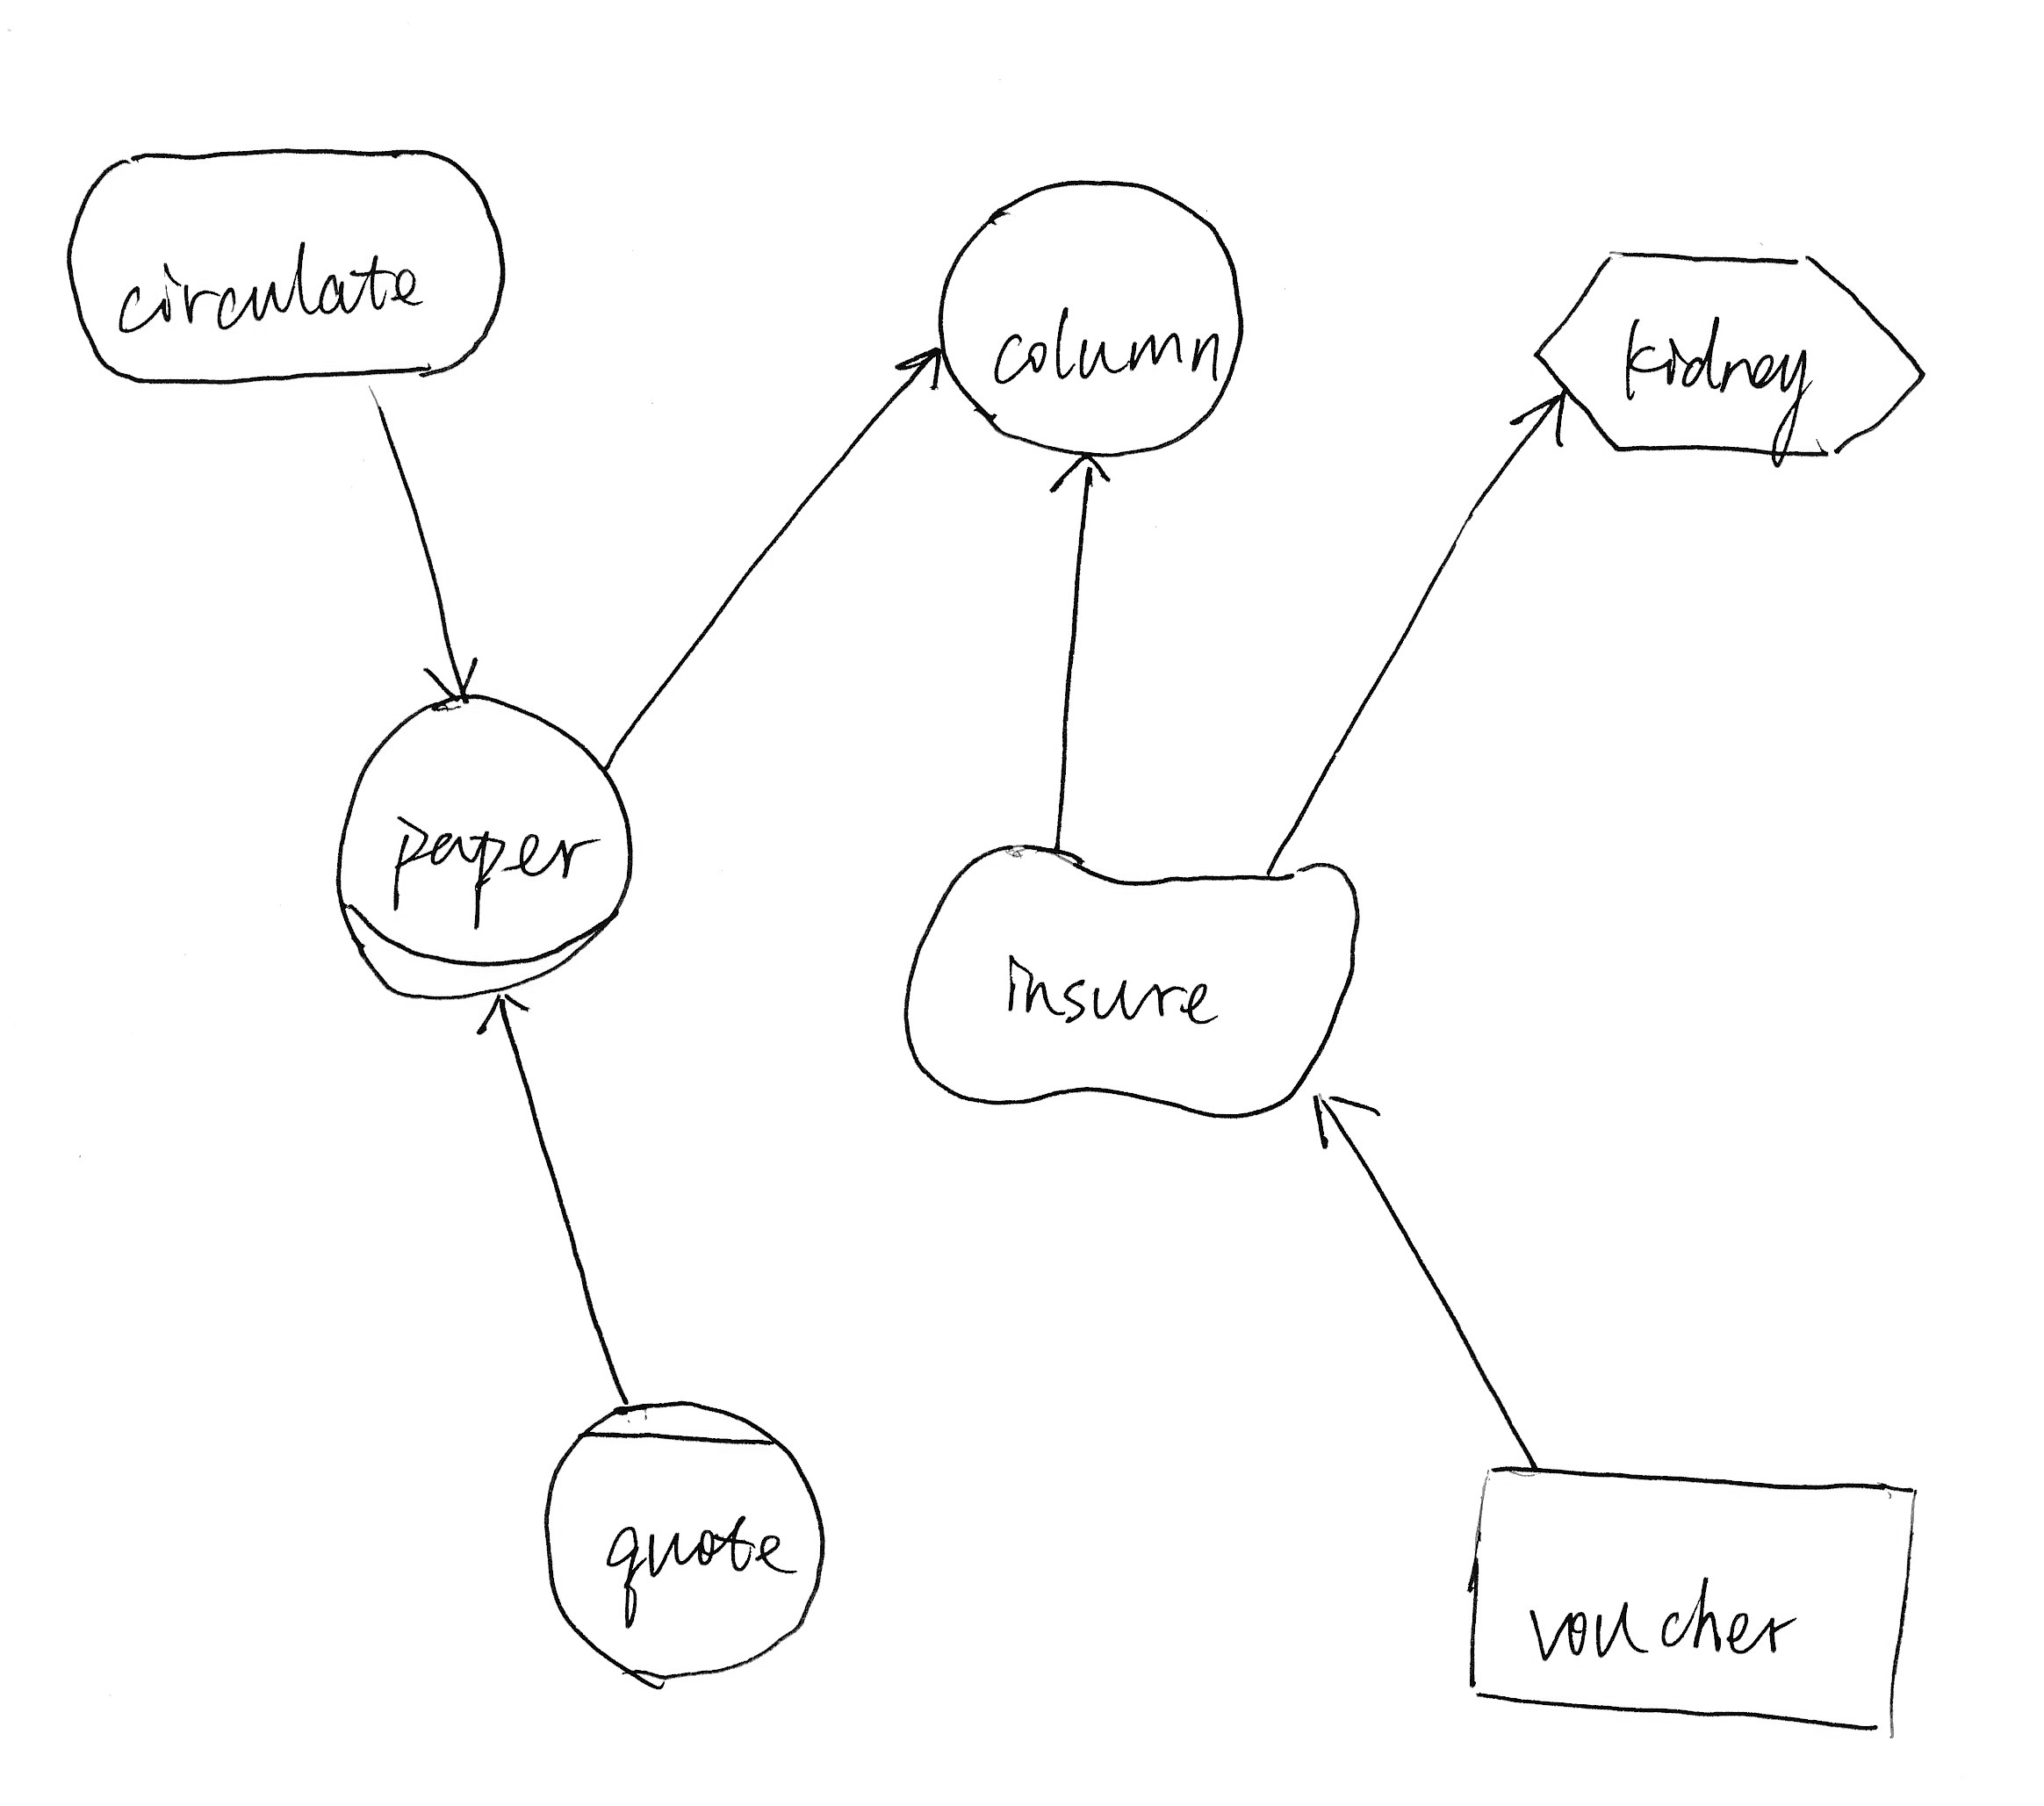actor: (924, 167, 1260, 472)
agent: (530, 1388, 836, 1693)
arrow: (1028, 445, 1131, 518), (878, 322, 953, 422), (1302, 1077, 1392, 1158), (1499, 384, 1579, 462), (465, 985, 551, 1053), (403, 648, 491, 706)
goal: (51, 129, 518, 401)
quality: (878, 828, 1384, 1130)
resource: (1452, 1443, 1938, 1762)
role: (321, 683, 643, 1015)
task: (1525, 220, 1945, 483)
